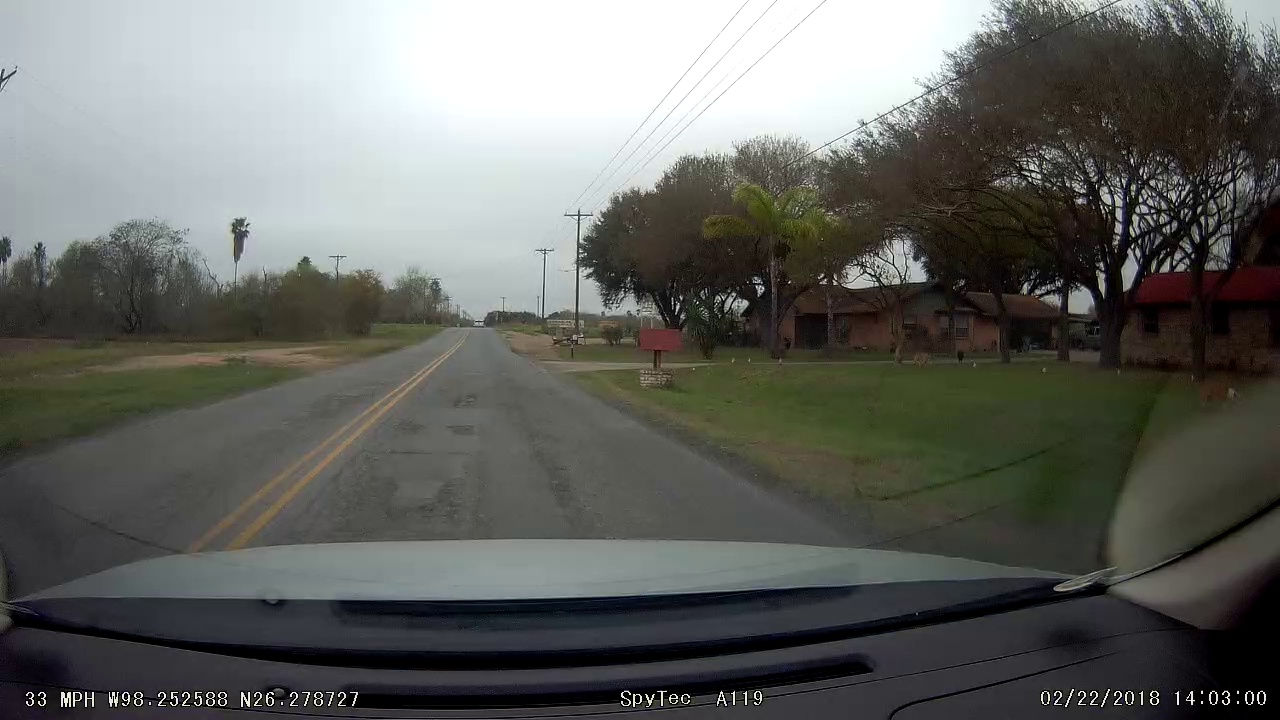pothole: (444, 385, 492, 412), (442, 421, 486, 441)
